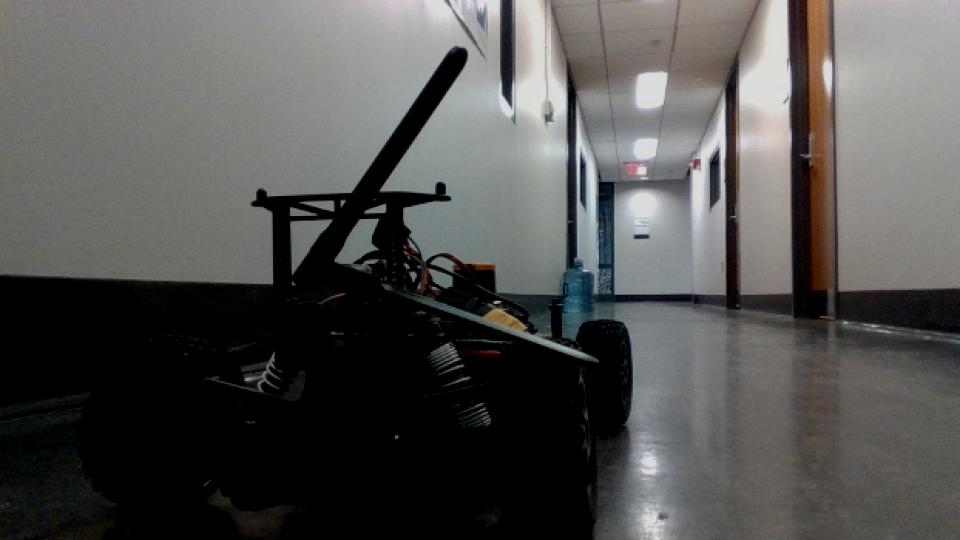car: (74, 43, 638, 540)
